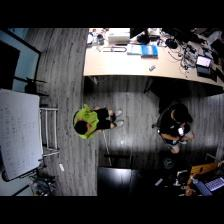normal: (67, 99, 130, 140), (156, 104, 197, 153)
